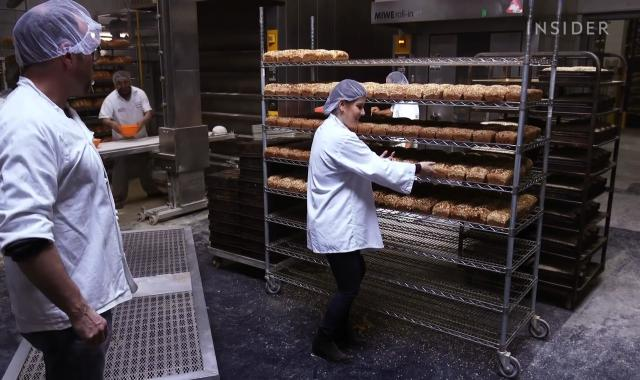hairnet: (9, 0, 102, 62), (322, 80, 368, 115), (385, 68, 409, 85), (110, 70, 130, 84)
